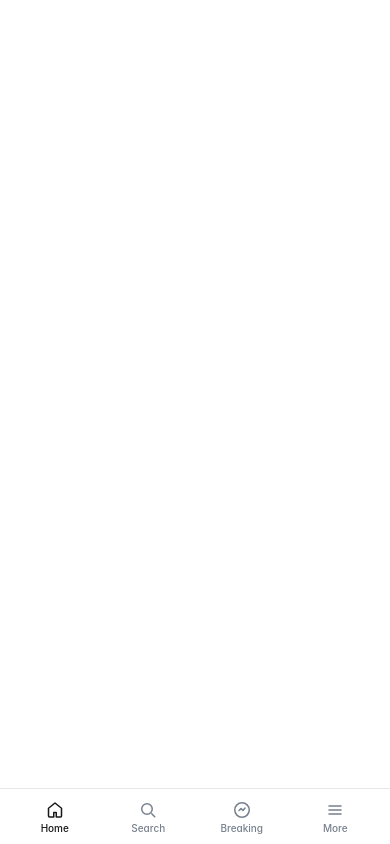
Test case: MobileBottomNav › opens the mobile more menu
Click the button "More" at coordinates (335, 816), box [288, 789, 382, 843]
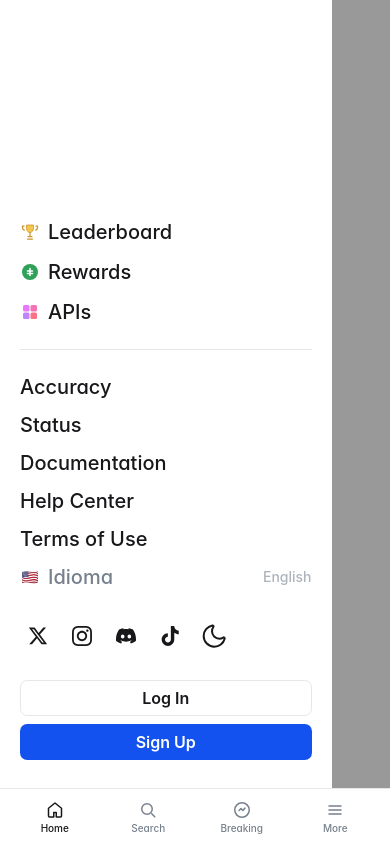
Expected: the dialog named "more menu" is shown
Expected: the text "Leaderboard" is shown, [48, 220, 172, 244]
Expected: the text "Rewards" is shown, [48, 260, 131, 284]
